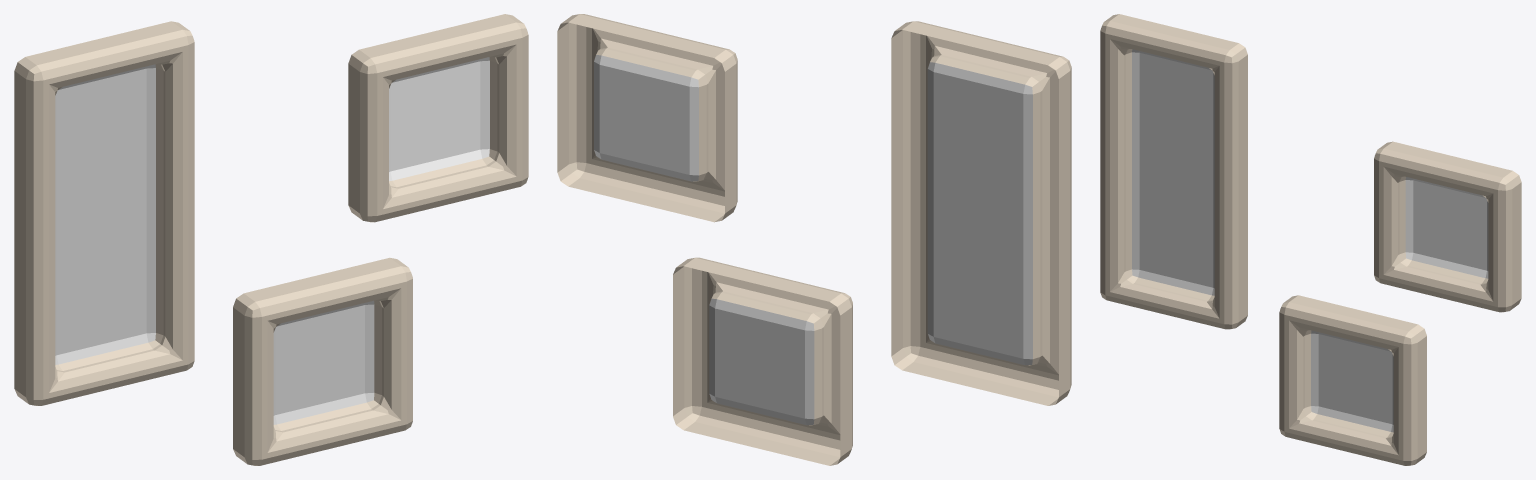
The model's file is BedRoom_L_PhotoFrame_001.fbx.
3 views of the same model, side by side, from view 1: azimuth 30°, elevation 25°; view 2: azimuth 150°, elevation 25°; view 3: azimuth 330°, elevation 25° (orthographic). The views are drawn at different scales.
Visible parts, largest first — view 1: L_PhotoFrame.001; view 2: L_PhotoFrame.001; view 3: L_PhotoFrame.001.
Part boxes in pixels (box(x1,y1,x2,y2)): L_PhotoFrame.001: box(14, 14, 528, 465); L_PhotoFrame.001: box(557, 14, 1071, 465); L_PhotoFrame.001: box(1100, 14, 1521, 465).
Bounding box in the file's own units: 93.34 × 80.75 × 5.73.
